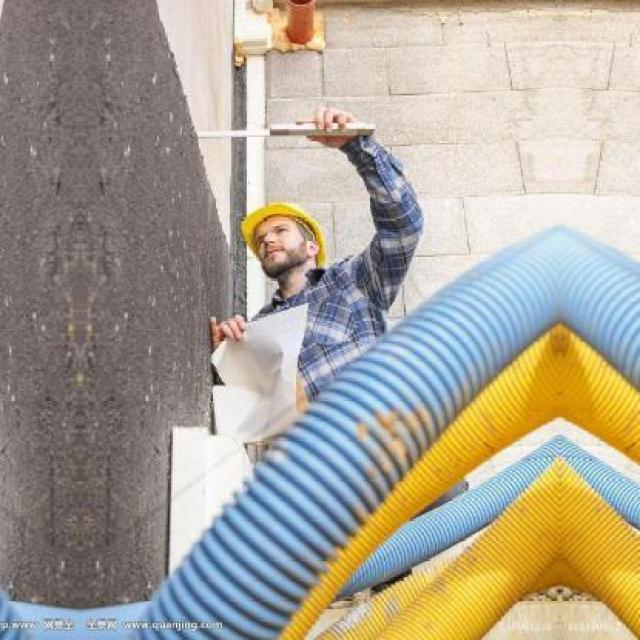hat: (230, 192, 341, 266)
